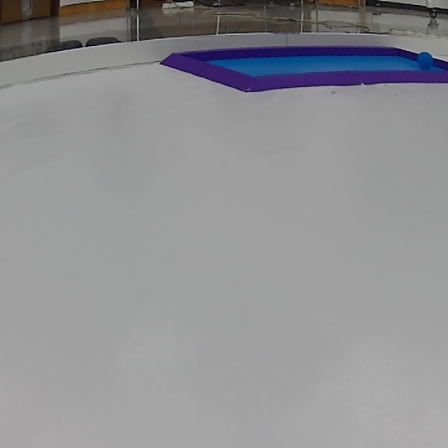blue: (417, 51, 433, 66)
blue_aim: (157, 45, 448, 92)
